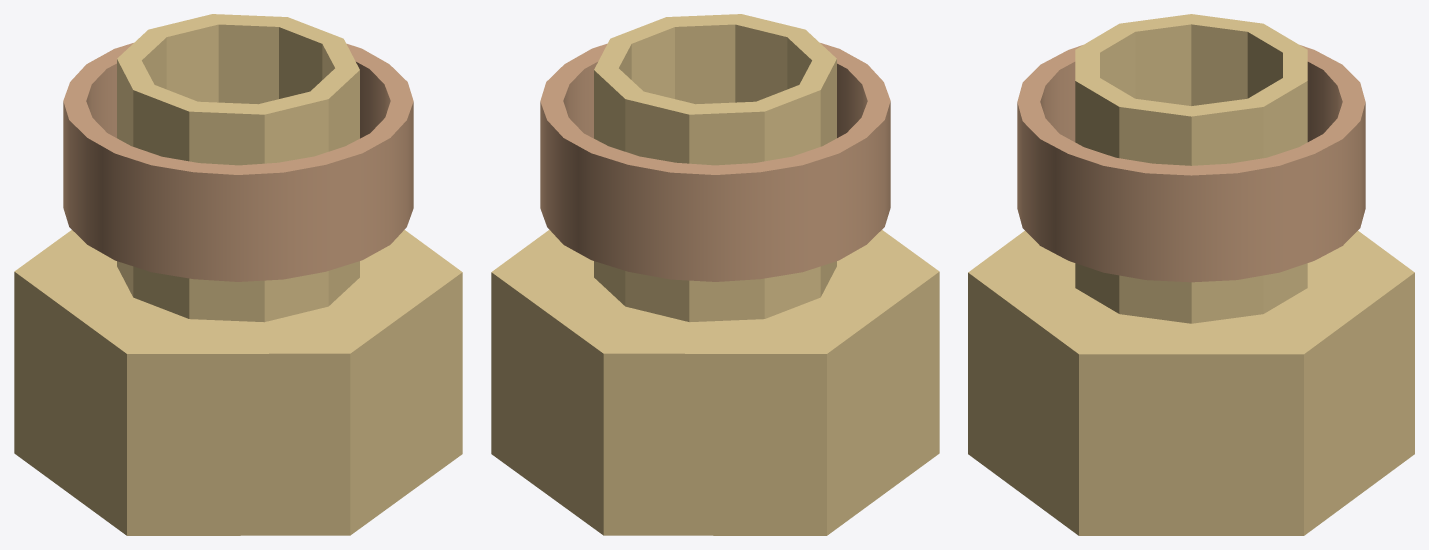
Rendered from slab_pipes_supply__water-city_filter_and_softener-no_and_plumbing-pex+attic_repipe.glb.
3 renders of one model, left to right at view 1: azimuth 30°, elevation 25°; view 2: azimuth 150°, elevation 25°; view 3: azimuth 270°, elevation 25°, orthographic.
Parts seen in each view (by area): view 1: fit_adapter_pipe_supply_manifold_feed__pex; view 2: fit_adapter_pipe_supply_manifold_feed__pex; view 3: fit_adapter_pipe_supply_manifold_feed__pex.
Part boxes in pixels (bbox=[...]): fit_adapter_pipe_supply_manifold_feed__pex: bbox=[14, 14, 462, 535]; fit_adapter_pipe_supply_manifold_feed__pex: bbox=[491, 14, 939, 535]; fit_adapter_pipe_supply_manifold_feed__pex: bbox=[968, 14, 1414, 535].
Size of the model in its own units: 0.0269 by 0.0298 by 0.031.
